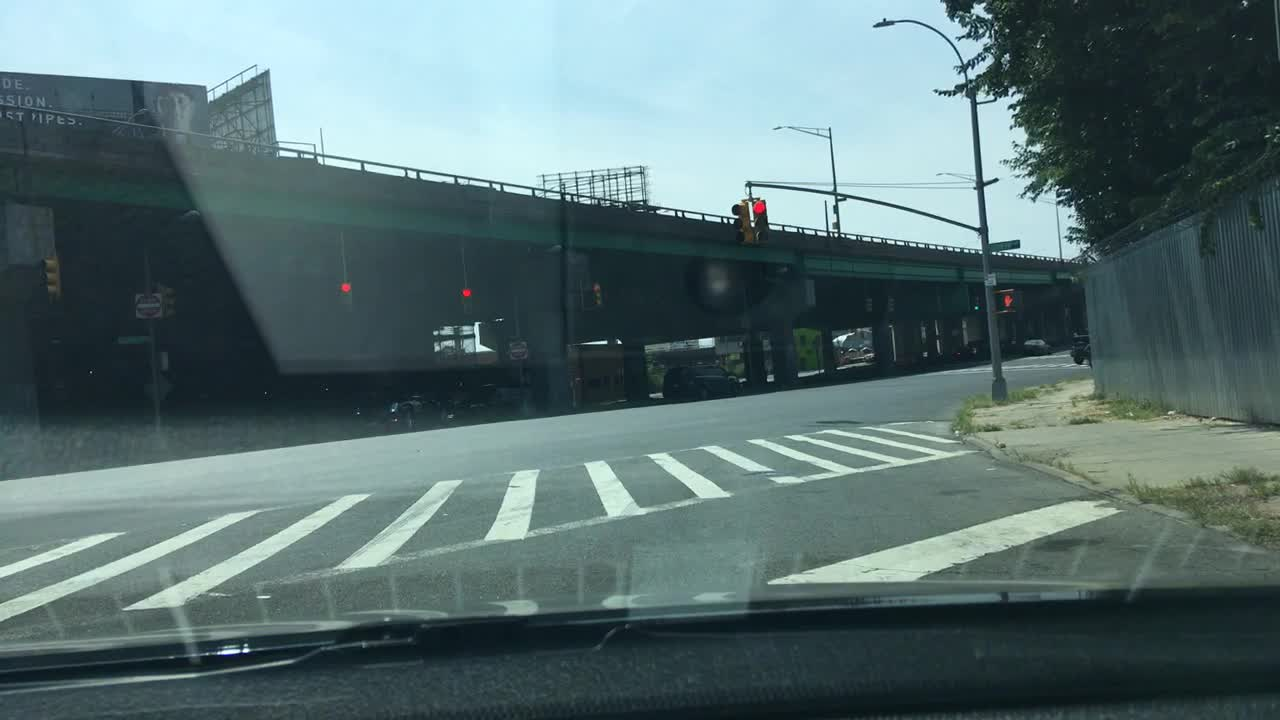car: (348, 391, 441, 435), (662, 364, 742, 403), (953, 338, 990, 369), (1070, 329, 1089, 368), (1020, 336, 1053, 356)
traffic light: (732, 200, 752, 247), (752, 197, 769, 245), (42, 252, 59, 299), (157, 283, 177, 321), (340, 279, 354, 311), (1000, 286, 1014, 315), (462, 286, 474, 316), (590, 281, 601, 313), (883, 296, 895, 319), (972, 296, 984, 315), (865, 296, 874, 316)
traffic sign: (145, 371, 172, 404), (132, 293, 162, 321), (985, 238, 1020, 253), (506, 340, 529, 361), (117, 331, 148, 346)
